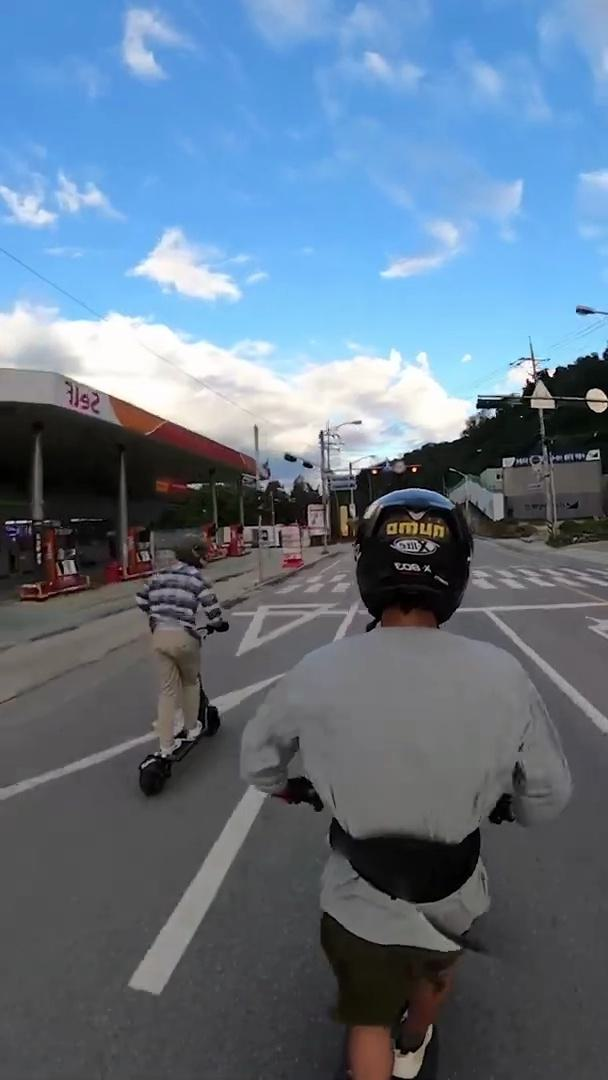helmet: (238, 484, 576, 1080), (133, 529, 232, 797)
